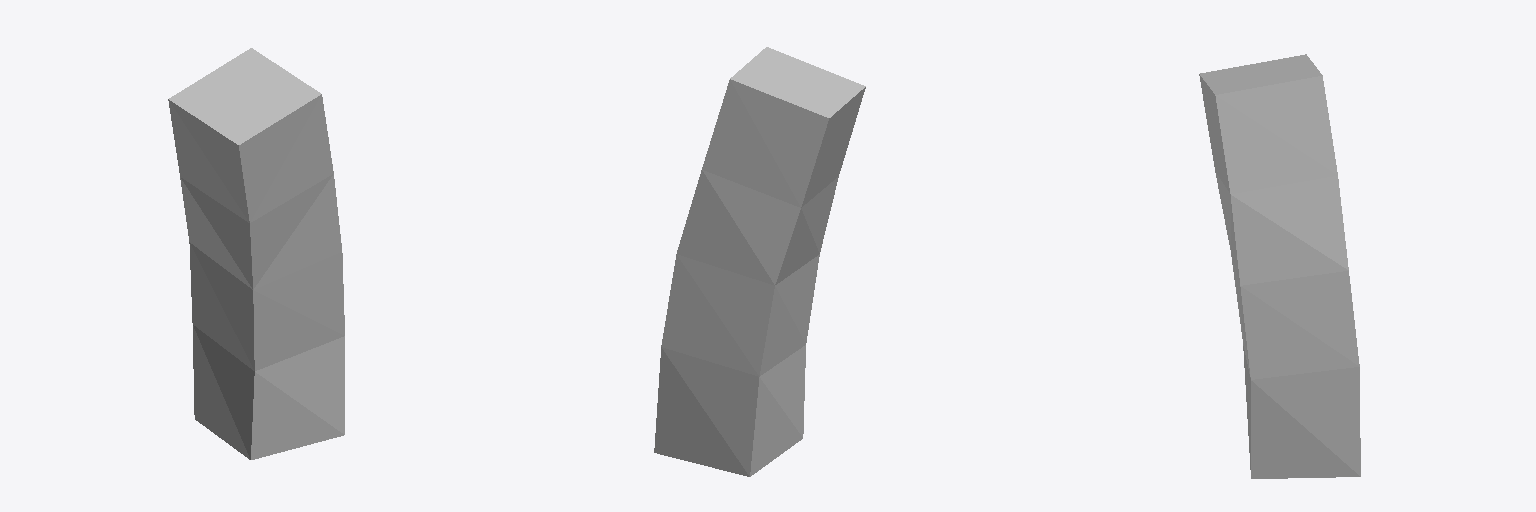
File: wiggle_000041.obj
3 renders of one model, left to right at view 1: azimuth 30°, elevation 25°; view 2: azimuth 150°, elevation 25°; view 3: azimuth 270°, elevation 25°, orthographic.
Visible parts, largest first — view 1: Cube; view 2: Cube; view 3: Cube.
Boxes of the visible parts, <box> form: Cube: <box>168,48,344,459</box>; Cube: <box>654,47,865,476</box>; Cube: <box>1199,54,1360,478</box>.
Size of the model in its own units: 3.14 by 7.58 by 2.95.